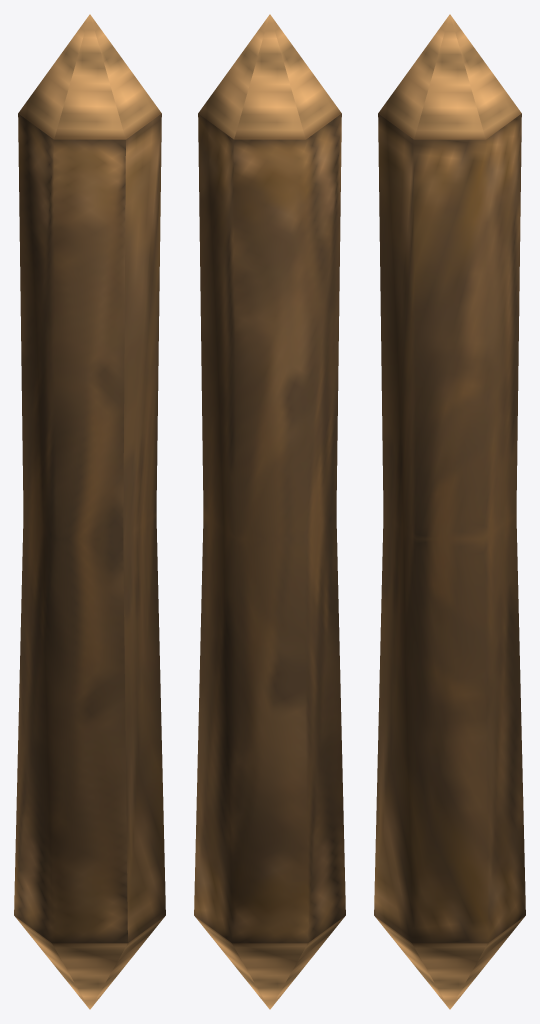
The model's file is Palissade.fbx.
The picture shows the model from 3 angles, left to right: view 1: azimuth 30°, elevation 25°; view 2: azimuth 150°, elevation 25°; view 3: azimuth 270°, elevation 25°; orthographic projection.
Parts seen in each view (by area): view 1: pike -col; view 2: pike -col; view 3: pike -col.
Boxes of the visible parts, bbox=[...] form: pike -col: bbox=[14, 14, 165, 1009]; pike -col: bbox=[194, 14, 345, 1009]; pike -col: bbox=[374, 14, 525, 1009].
Size of the model in its own units: 81.8 by 683 by 94.45.
